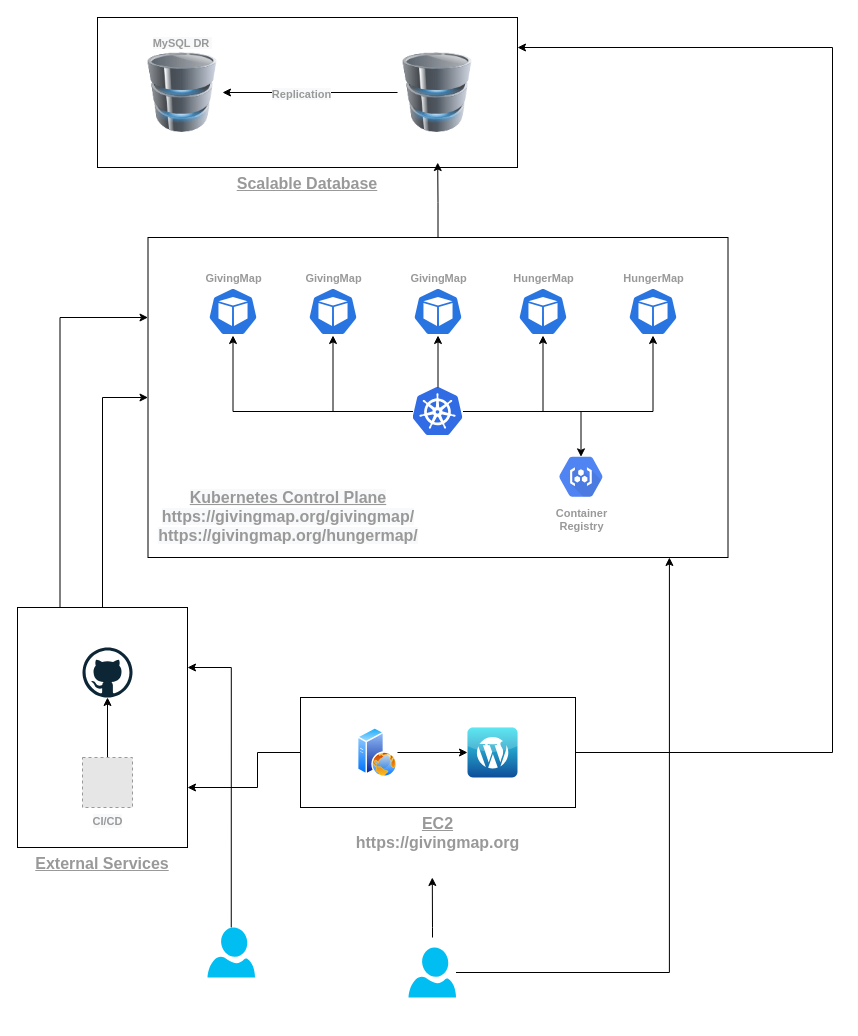
The diagram is 858 pixels wide and 1036 high, and some of its shapes have lost their labels. Grey dashed boxes stand in for pictures. Here are the shapes that lost their labels. From the top down, the centre of each, then its label:
the point at 437,92: MySQL
the point at 437,411: Kubernetes
the point at 107,672: GitHub
the point at 230,952: Developer
the point at 432,972: End User
